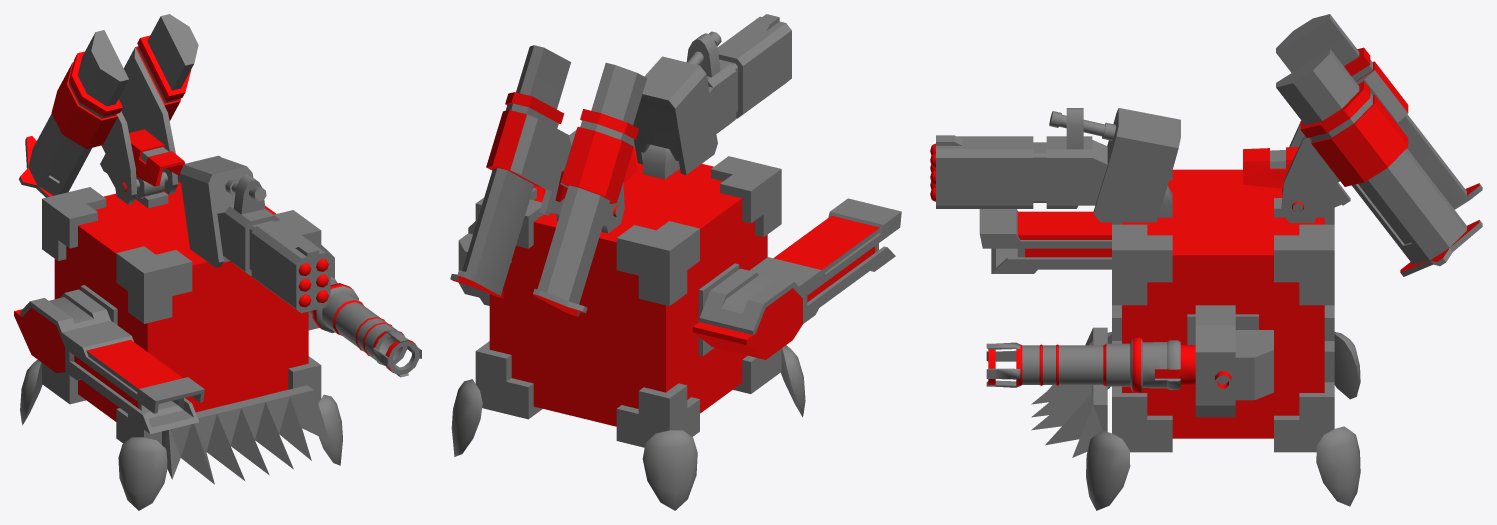
File: TheCubeFull.obj
3 renders of one model, left to right at view 1: azimuth 30°, elevation 25°; view 2: azimuth 150°, elevation 25°; view 3: azimuth 270°, elevation 25°, orthographic. The views are drawn at different scales.
Visible parts, largest first — view 1: TheCube, TheCube MissileLauncher Launcher, TheCube Laser, TheCube Frame AnotherMissileLauncher, TheCube Guard, TheCube Frame AnotherMissileLauncher LauncherR, TheCube FlameThrower, TheCube Frame AnotherMissileLauncher LauncherL, TheCube LegShields legShield3, TheCube AnotherMissileLauncher Shield, TheCube LegShields legShield, TheCube LegShields legShield2; view 2: TheCube, TheCube Laser, TheCube MissileLauncher Launcher, TheCube Frame AnotherMissileLauncher, TheCube Frame AnotherMissileLauncher LauncherR, TheCube Frame AnotherMissileLauncher LauncherL, TheCube LegShields legShield2, TheCube legShield1 LegShields, TheCube LegShields legShield3, TheCube Base MissileLauncher, TheCube FlameThrower; view 3: TheCube, TheCube MissileLauncher Launcher, TheCube FlameThrower, TheCube Frame AnotherMissileLauncher, TheCube Frame AnotherMissileLauncher LauncherL, TheCube Laser, TheCube Frame AnotherMissileLauncher LauncherR, TheCube Guard, TheCube legShield1 LegShields, TheCube LegShields legShield, TheCube AnotherMissileLauncher Shield, TheCube LegShields legShield2.
Part boxes in pixels (left/top/right/bottom): TheCube: left=42, top=155, right=321, bottom=444; TheCube MissileLauncher Launcher: left=180, top=156, right=330, bottom=313; TheCube Laser: left=14, top=289, right=204, bottom=434; TheCube Frame AnotherMissileLauncher: left=51, top=35, right=191, bottom=204; TheCube Guard: left=162, top=385, right=329, bottom=484; TheCube Frame AnotherMissileLauncher LauncherR: left=19, top=30, right=128, bottom=197; TheCube FlameThrower: left=308, top=245, right=421, bottom=377; TheCube Frame AnotherMissileLauncher LauncherL: left=101, top=14, right=198, bottom=153; TheCube LegShields legShield3: left=118, top=437, right=167, bottom=510; TheCube AnotherMissileLauncher Shield: left=129, top=129, right=185, bottom=186; TheCube LegShields legShield: left=318, top=394, right=342, bottom=465; TheCube LegShields legShield2: left=20, top=359, right=42, bottom=425; TheCube: left=475, top=130, right=781, bottom=447; TheCube Laser: left=693, top=198, right=901, bottom=359; TheCube MissileLauncher Launcher: left=633, top=14, right=791, bottom=174; TheCube Frame AnotherMissileLauncher: left=486, top=92, right=638, bottom=233; TheCube Frame AnotherMissileLauncher LauncherR: left=533, top=62, right=647, bottom=316; TheCube Frame AnotherMissileLauncher LauncherL: left=450, top=45, right=570, bottom=298; TheCube LegShields legShield2: left=642, top=430, right=697, bottom=510; TheCube legShield1 LegShields: left=451, top=379, right=482, bottom=456; TheCube LegShields legShield3: left=781, top=345, right=805, bottom=417; TheCube Base MissileLauncher: left=643, top=144, right=679, bottom=179; TheCube FlameThrower: left=458, top=221, right=489, bottom=305; TheCube: left=1112, top=169, right=1334, bottom=452; TheCube MissileLauncher Launcher: left=930, top=108, right=1180, bottom=222; TheCube FlameThrower: left=986, top=305, right=1273, bottom=417; TheCube Frame AnotherMissileLauncher: left=1281, top=47, right=1408, bottom=222; TheCube Frame AnotherMissileLauncher LauncherL: left=1276, top=49, right=1482, bottom=276; TheCube Laser: left=979, top=209, right=1111, bottom=273; TheCube Frame AnotherMissileLauncher LauncherR: left=1276, top=14, right=1482, bottom=209; TheCube Guard: left=1031, top=327, right=1107, bottom=457; TheCube legShield1 LegShields: left=1316, top=426, right=1360, bottom=506; TheCube LegShields legShield: left=1086, top=430, right=1130, bottom=510; TheCube AnotherMissileLauncher Shield: left=1243, top=147, right=1298, bottom=188; TheCube LegShields legShield2: left=1334, top=332, right=1360, bottom=399.
Bounding box in the file's own units: 17.8 × 23.08 × 27.29.
